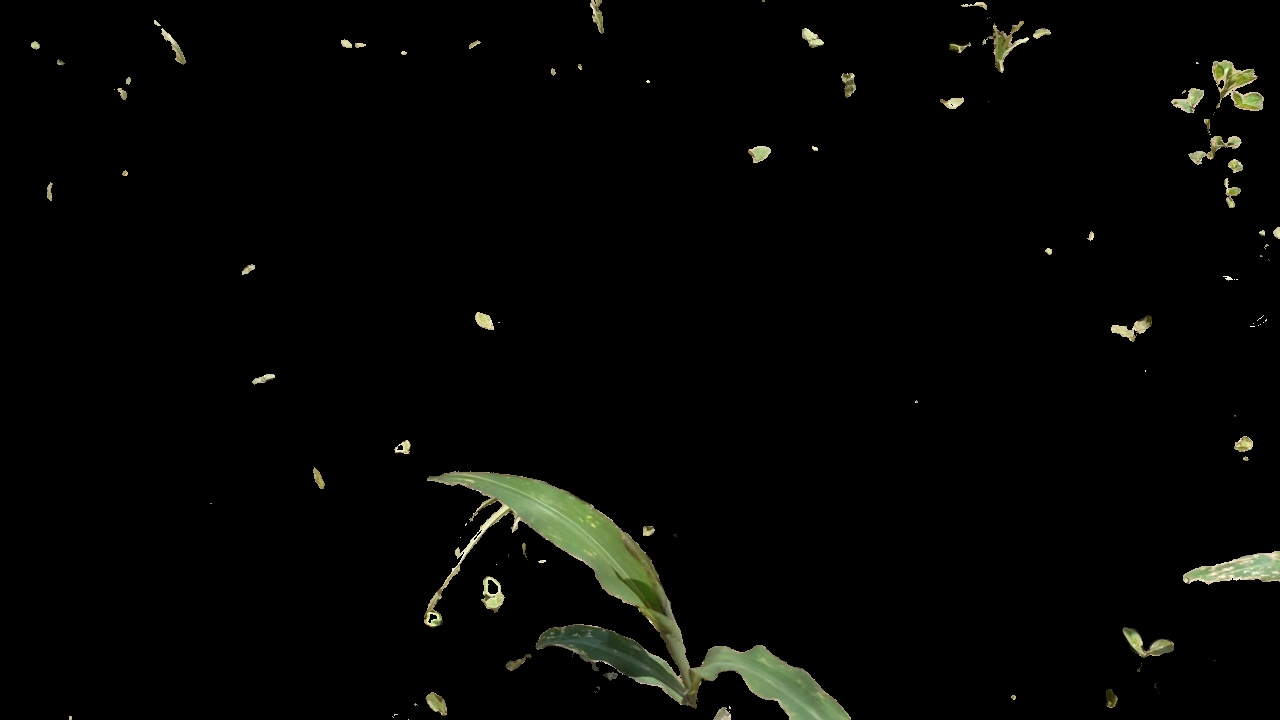crop: (432, 477, 901, 720)
weed: (948, 1, 1069, 85), (1165, 44, 1265, 127), (1108, 618, 1179, 671), (1102, 298, 1158, 344), (471, 569, 506, 617)
